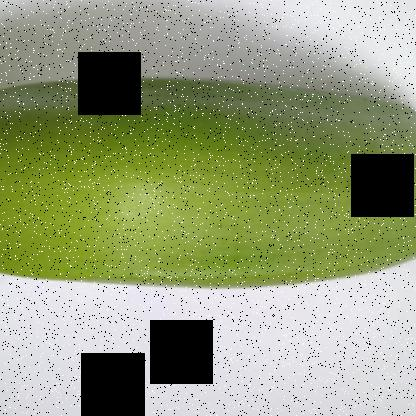freshunripe: (1, 59, 415, 318)
